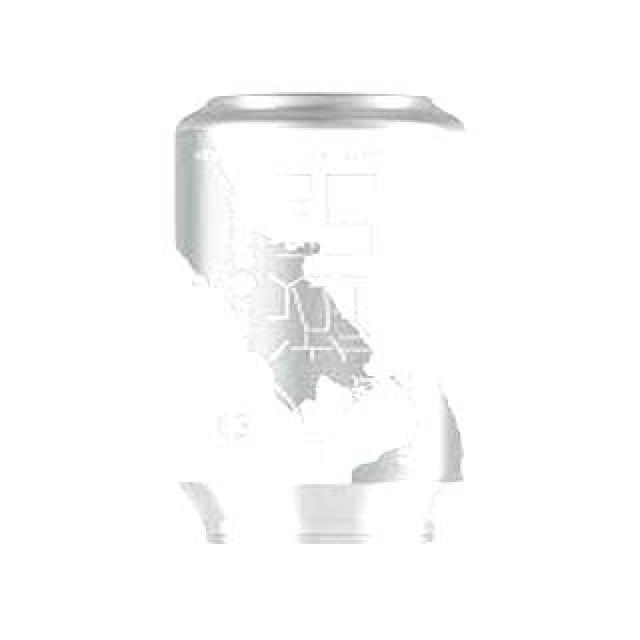Can: (166, 90, 498, 552)
